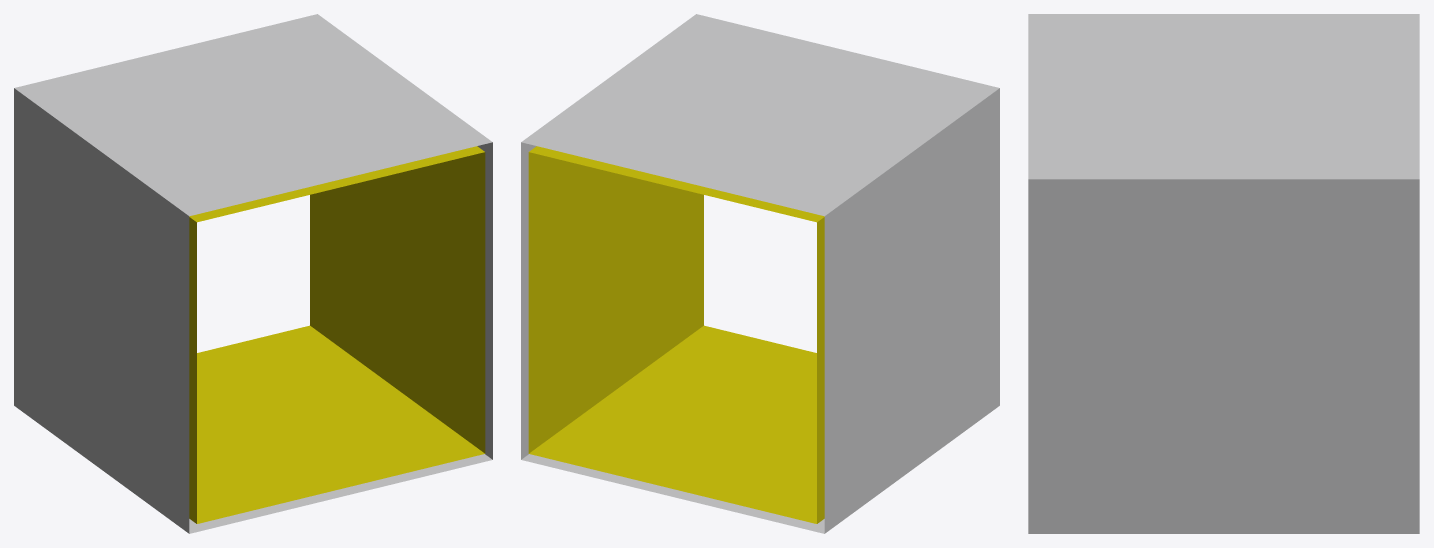
File: pipe1.dae
3 views of the same model, side by side, from view 1: azimuth 30°, elevation 25°; view 2: azimuth 150°, elevation 25°; view 3: azimuth 270°, elevation 25° (orthographic). The views are drawn at different scales.
Parts seen in each view (by area): view 1: Cube_001, Cube; view 2: Cube_001, Cube; view 3: Cube_001.
Boxes of the visible parts, x1,y1,x2,y2 form: Cube_001: (14,14,492,533); Cube: (189,146,485,523); Cube_001: (521,14,999,533); Cube: (528,146,824,523); Cube_001: (1028,14,1419,533).
Bounding box in the file's own units: 4 × 4 × 4.
